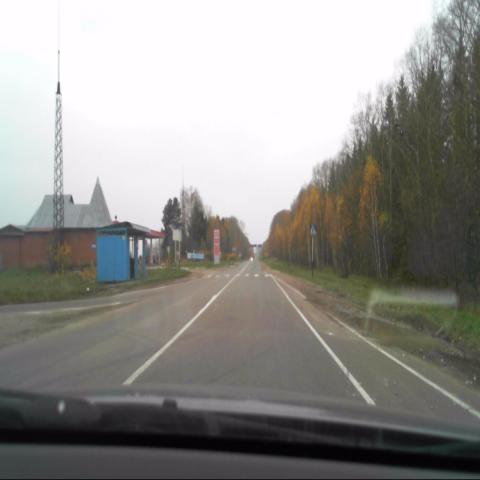5_19_1: (310, 225, 318, 235)
